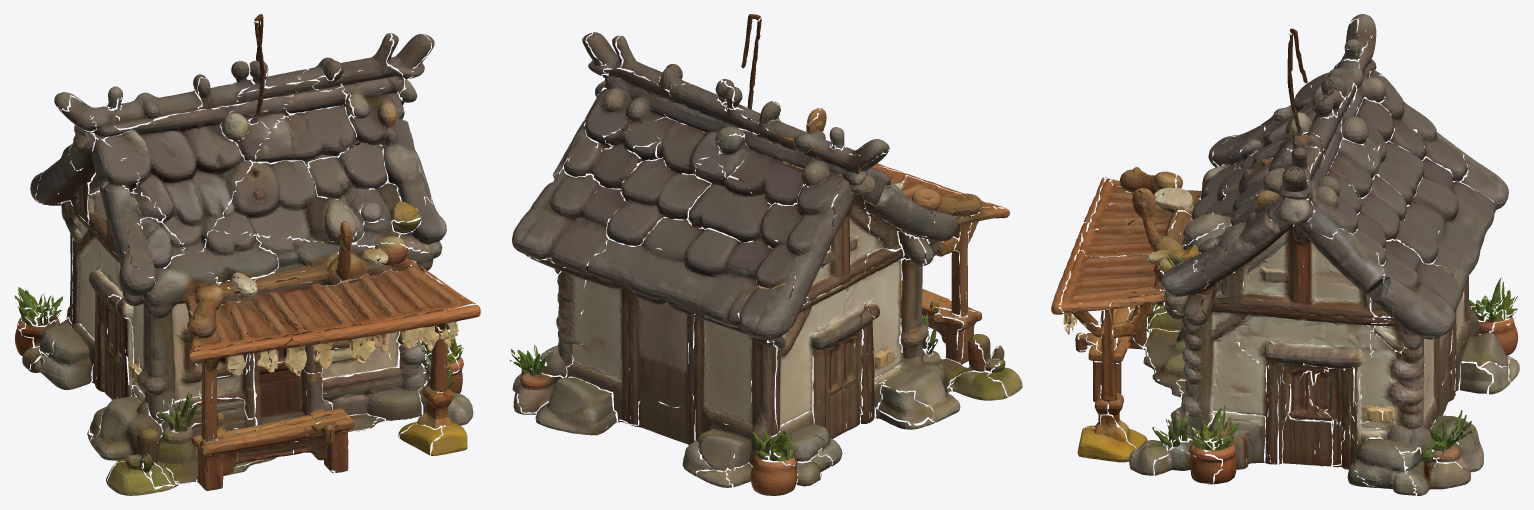
The model's file is village_building_02_lod0.glb.
The picture shows the model from 3 angles, left to right: view 1: azimuth 30°, elevation 25°; view 2: azimuth 150°, elevation 25°; view 3: azimuth 270°, elevation 25°; orthographic projection.
Parts seen in each view (by area): view 1: world; view 2: world; view 3: world.
Part boxes in pixels (x1,y1,x2,y2): world: (14,14,480,495); world: (510,14,1022,495); world: (1051,14,1519,495).
Bounding box in the file's own units: 0.3121 × 0.292 × 0.3263.
1 material, 1 textured.
